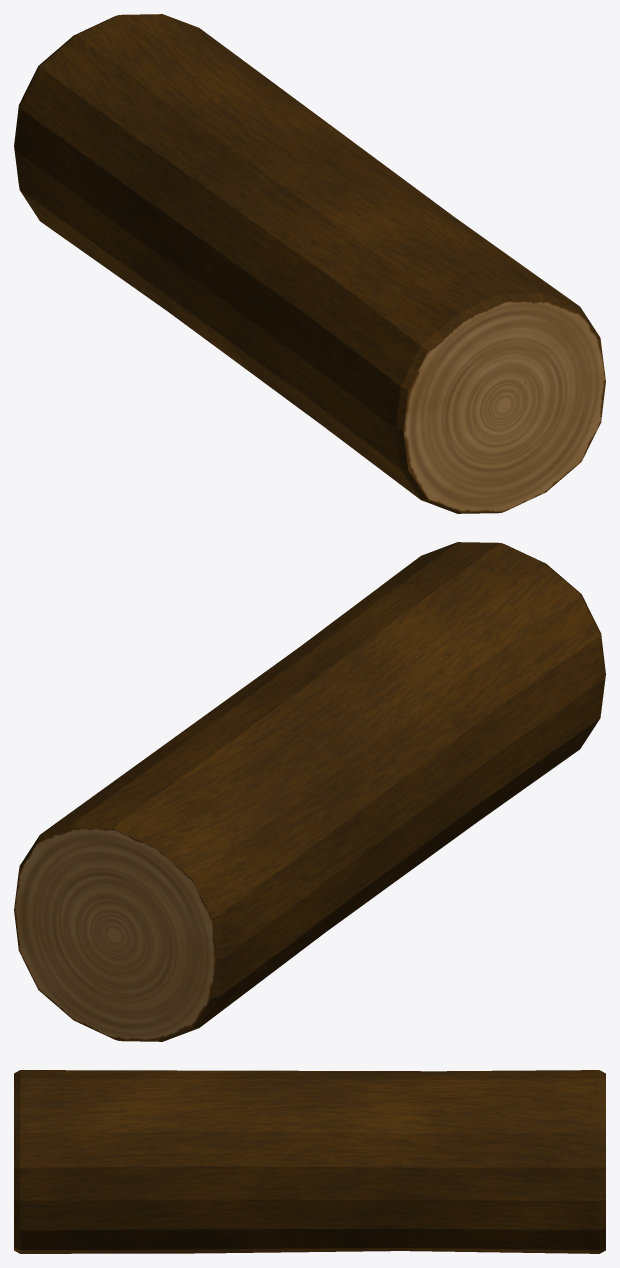
Rendered from Log.fbx.
3 renders of one model, top to bottom at view 1: azimuth 30°, elevation 25°; view 2: azimuth 150°, elevation 25°; view 3: azimuth 270°, elevation 25°, orthographic. The views are drawn at different scales.
Visible parts, largest first — view 1: Log; view 2: Log; view 3: Log.
Part boxes in pixels (x1,y1,x2,y2): Log: [14, 14, 605, 513]; Log: [14, 542, 605, 1041]; Log: [14, 1070, 605, 1253].
Bounding box in the file's own units: 2 × 2 × 6.43.
